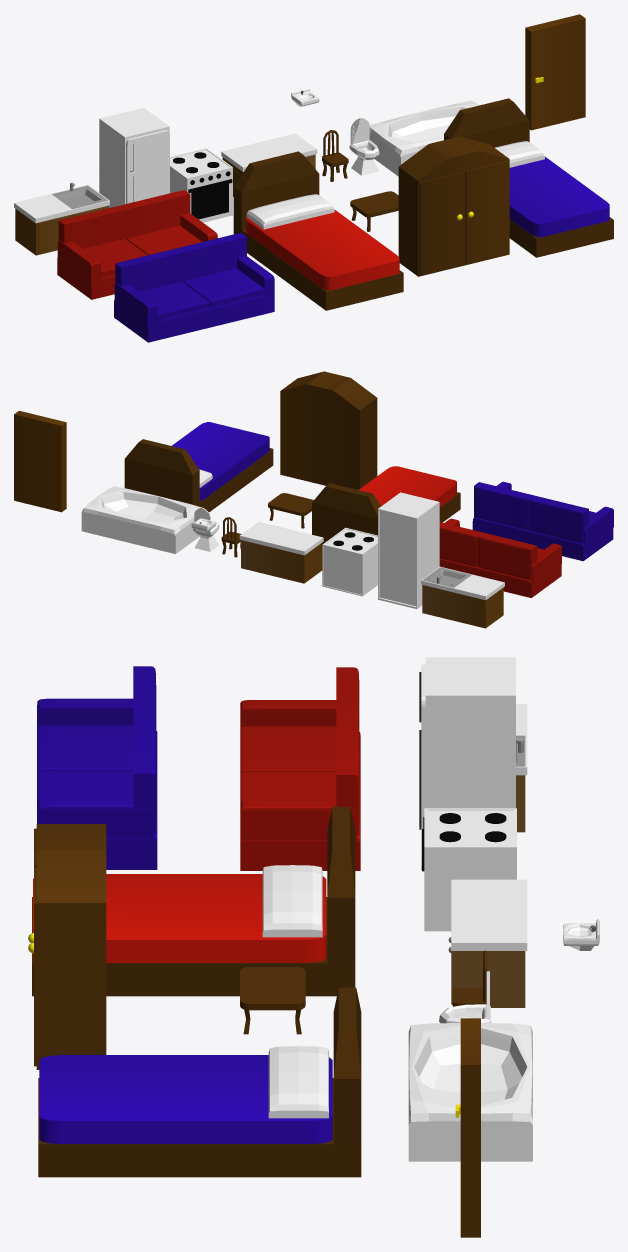
File: HouseInterior.fbx
The picture shows the model from 3 angles, top to bottom: view 1: azimuth 30°, elevation 25°; view 2: azimuth 150°, elevation 25°; view 3: azimuth 270°, elevation 25°; orthographic projection. The views are drawn at different scales.
Parts seen in each view (by area): view 1: Cama, Mueble?2, Sillon.001, Cama.001, Sillon, puerta, Heladera, Lavaplataos, Cocina, baniera, Mueble_1, Inodoro (+2 smaller); view 2: Mueble?2, Cama.001, Sillon.001, Heladera, Sillon, Cama, baniera, puerta, Mueble_1, Lavaplataos, Cocina, Mesa (+2 smaller); view 3: Cama.001, Cama, Sillon, Sillon.001, Mueble?2, Heladera, baniera, Mueble_1, Cocina, puerta, Mesa, Lavaplataos (+3 smaller).
Part boxes in pixels (<box>): Cama: <box>233,151,403,310</box>; Mueble?2: <box>398,136,509,276</box>; Sillon.001: <box>114,233,274,342</box>; Cama.001: <box>444,98,613,257</box>; Sillon: <box>57,190,217,299</box>; puerta: <box>525,14,585,130</box>; Heladera: <box>99,107,169,207</box>; Lavaplataos: <box>14,182,109,255</box>; Cocina: <box>170,148,232,222</box>; baniera: <box>369,100,479,176</box>; Mueble_1: <box>221,133,317,196</box>; Inodoro: <box>349,118,379,175</box>; Mueble?2: <box>280,371,377,489</box>; Cama.001: <box>124,422,273,512</box>; Sillon.001: <box>472,481,613,561</box>; Heladera: <box>378,492,439,608</box>; Sillon: <box>439,518,561,597</box>; Cama: <box>312,466,460,544</box>; baniera: <box>81,486,204,553</box>; puerta: <box>14,410,66,512</box>; Mueble_1: <box>239,522,323,583</box>; Lavaplataos: <box>421,566,504,628</box>; Cocina: <box>322,527,377,596</box>; Mesa: <box>268,493,313,528</box>; Cama.001: <box>38,987,361,1177</box>; Cama: <box>32,806,355,996</box>; Sillon: <box>240,667,360,870</box>; Sillon.001: <box>37,666,157,869</box>; Mueble?2: <box>28,824,106,1069</box>; Heladera: <box>419,657,515,869</box>; baniera: <box>408,1023,532,1161</box>; Mueble_1: <box>448,879,527,1007</box>; Cocina: <box>422,808,516,931</box>; puerta: <box>455,1018,480,1237</box>; Mesa: <box>240,967,305,1034</box>; Lavaplataos: <box>516,704,527,832</box>.
Bounding box in the file's own units: 6186 × 1281 × 3133.
Materials: 1 (1 with a texture image).
